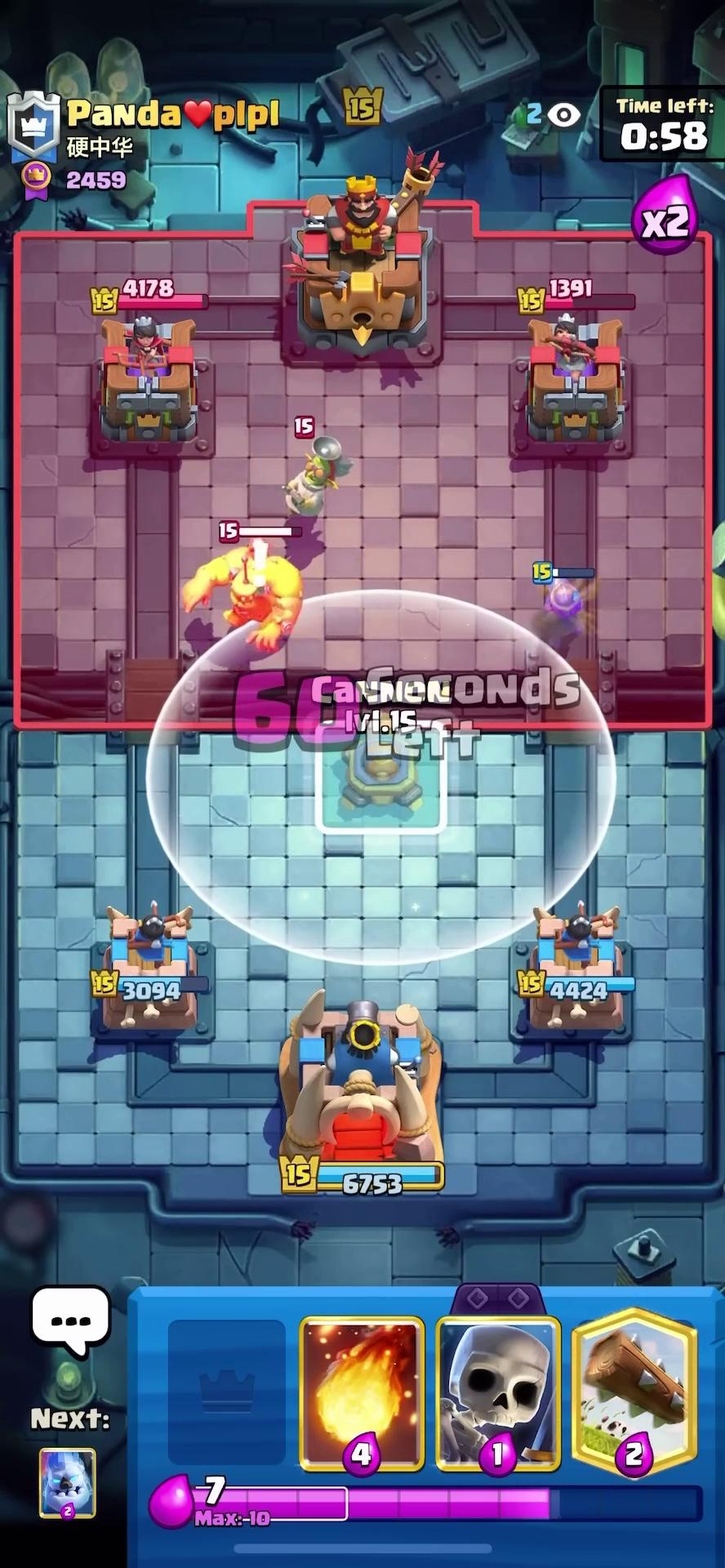musketeer: (527, 549, 612, 633)
